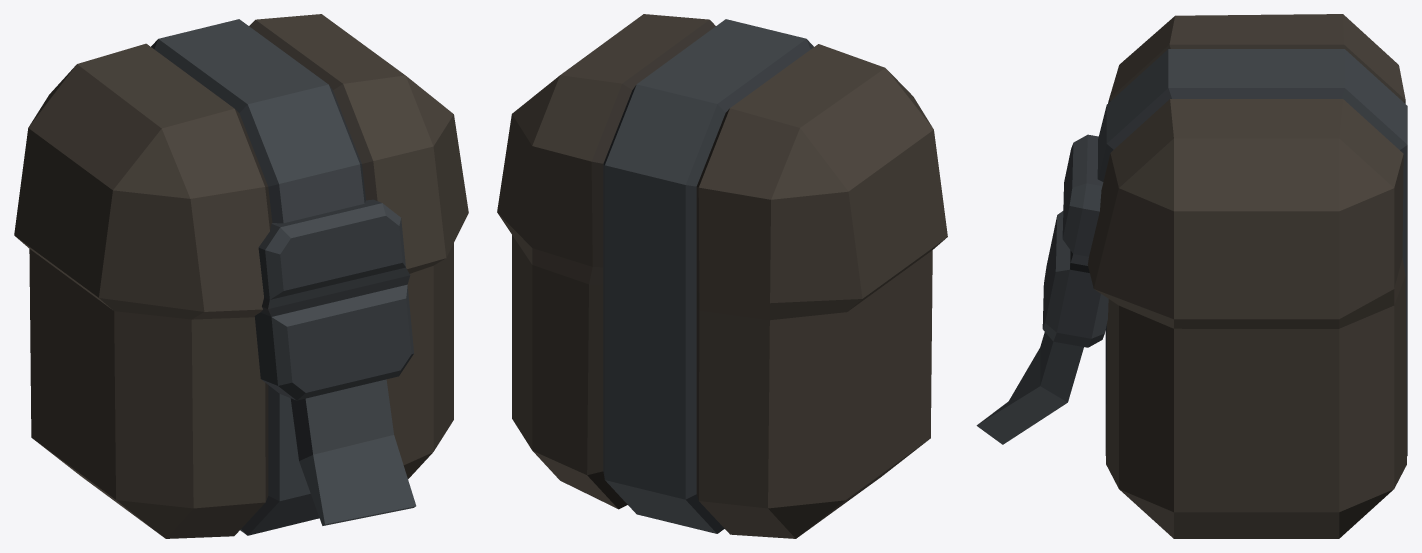
Rendered from SM_Mech_01_Attach_Saddlebag_02.fbx.
3 views of the same model, side by side, from view 1: azimuth 30°, elevation 25°; view 2: azimuth 150°, elevation 25°; view 3: azimuth 270°, elevation 25° (orthographic).
Visible parts, largest first — view 1: SM_Mech_01_Attach_Saddlebag_02; view 2: SM_Mech_01_Attach_Saddlebag_02; view 3: SM_Mech_01_Attach_Saddlebag_02.
Part boxes in pixels (x1=…): SM_Mech_01_Attach_Saddlebag_02: x1=14, y1=14, x2=468, y2=538; SM_Mech_01_Attach_Saddlebag_02: x1=497, y1=14, x2=947, y2=538; SM_Mech_01_Attach_Saddlebag_02: x1=976, y1=14, x2=1407, y2=538.
Bounding box in the file's own units: 29.92 × 33.41 × 30.73.
